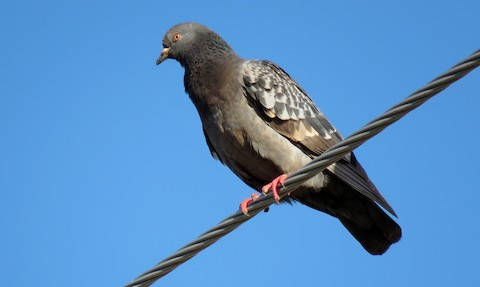pigeon: (153, 18, 411, 263)
